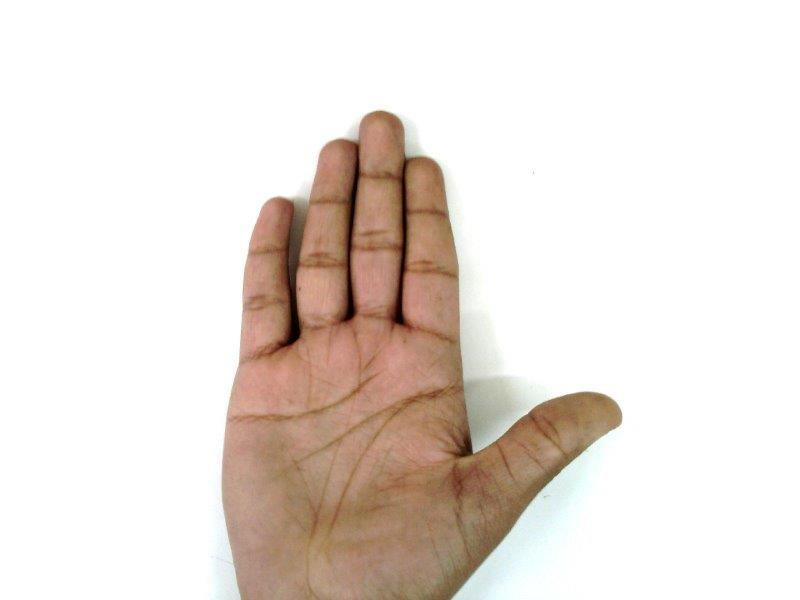hand: (222, 111, 624, 599)
